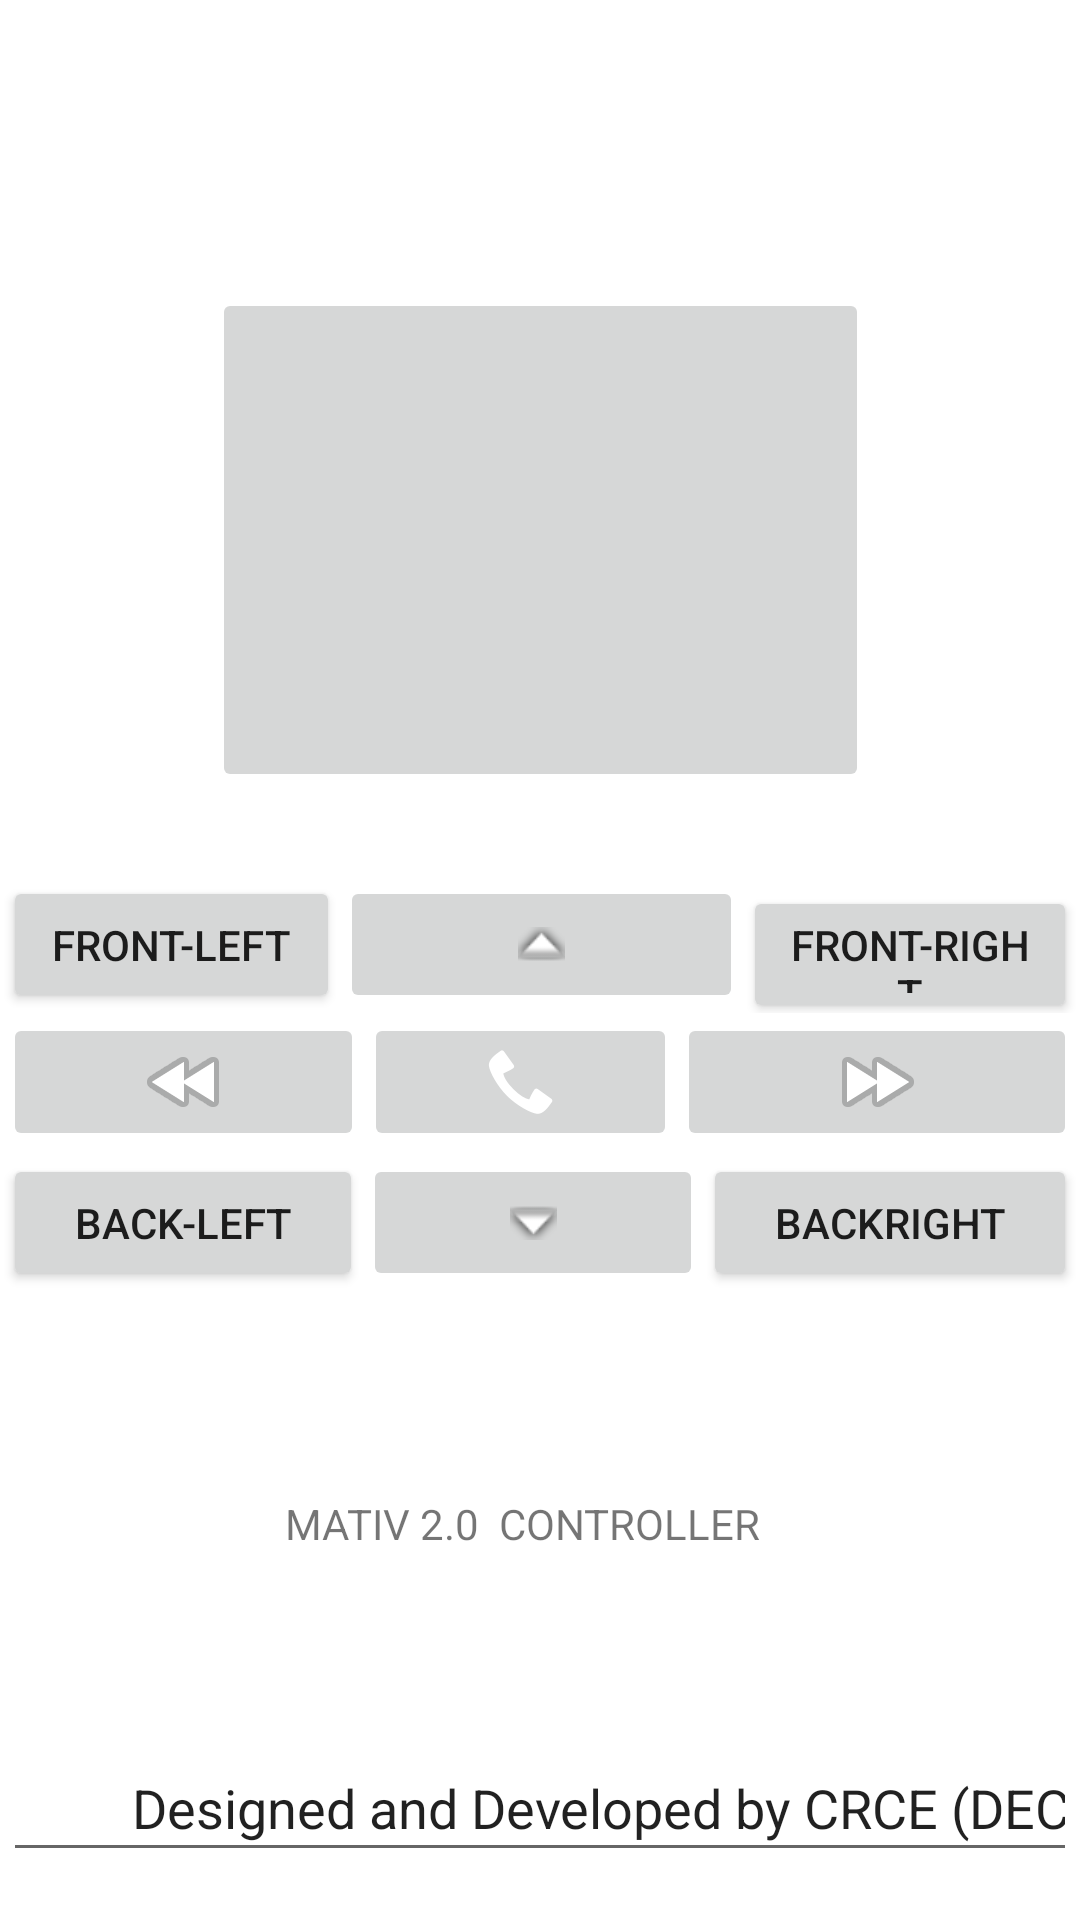

Icons on this 1080 x 1920 Android screen, each with its box as (x1,y1,x2,y2):
arrow down float: (375,1172,691,1273)
phone call: (376,1031,665,1133)
rew: (15,1031,352,1133)
